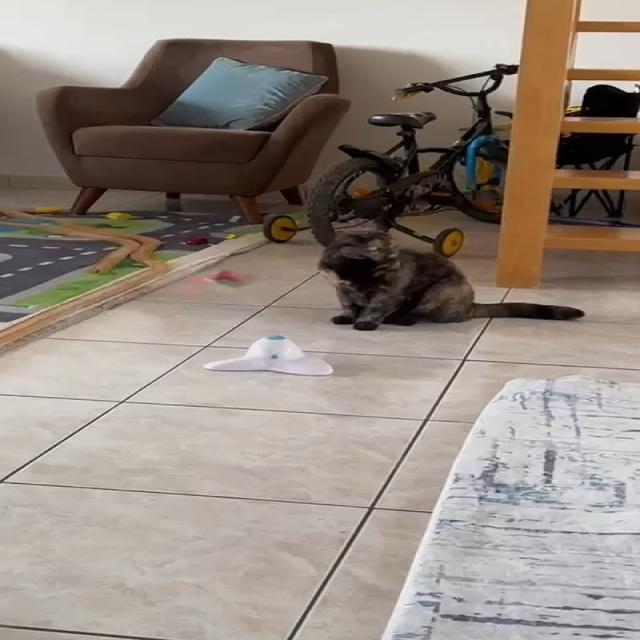authorized: (316, 228, 584, 330)
